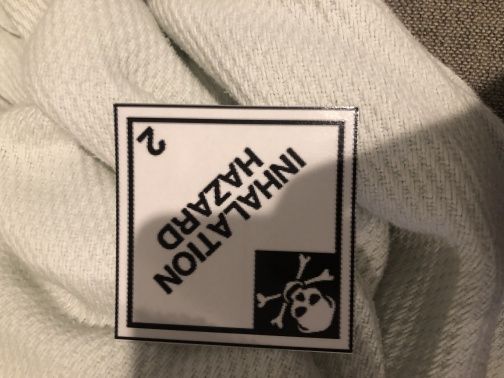InhalationHazard: (112, 102, 359, 353)
